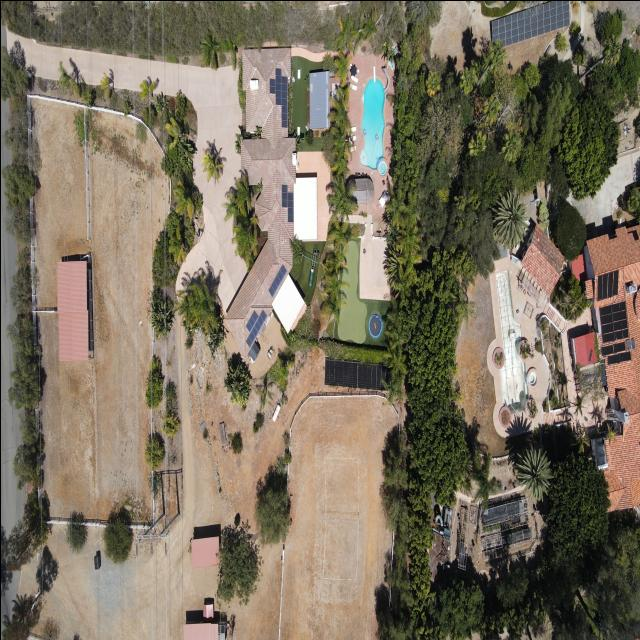solar-panels: (483, 0, 575, 50), (322, 358, 393, 390), (236, 305, 268, 347), (597, 299, 628, 342), (269, 67, 287, 127), (265, 263, 288, 296), (596, 268, 618, 301), (281, 183, 293, 222), (605, 350, 632, 365), (599, 341, 626, 355), (587, 348, 592, 361)
